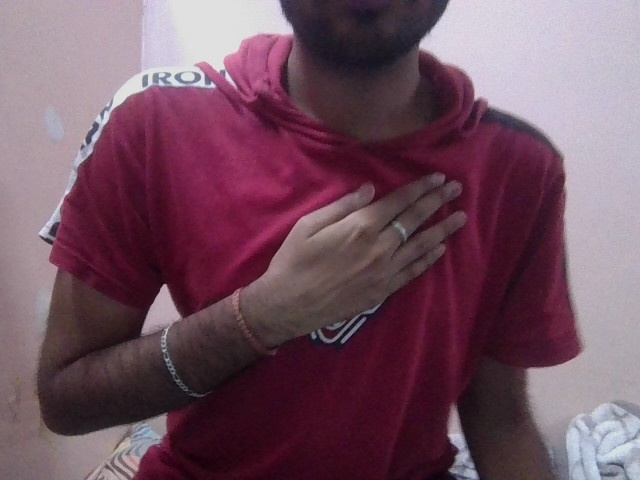Please: (266, 163, 476, 319)
